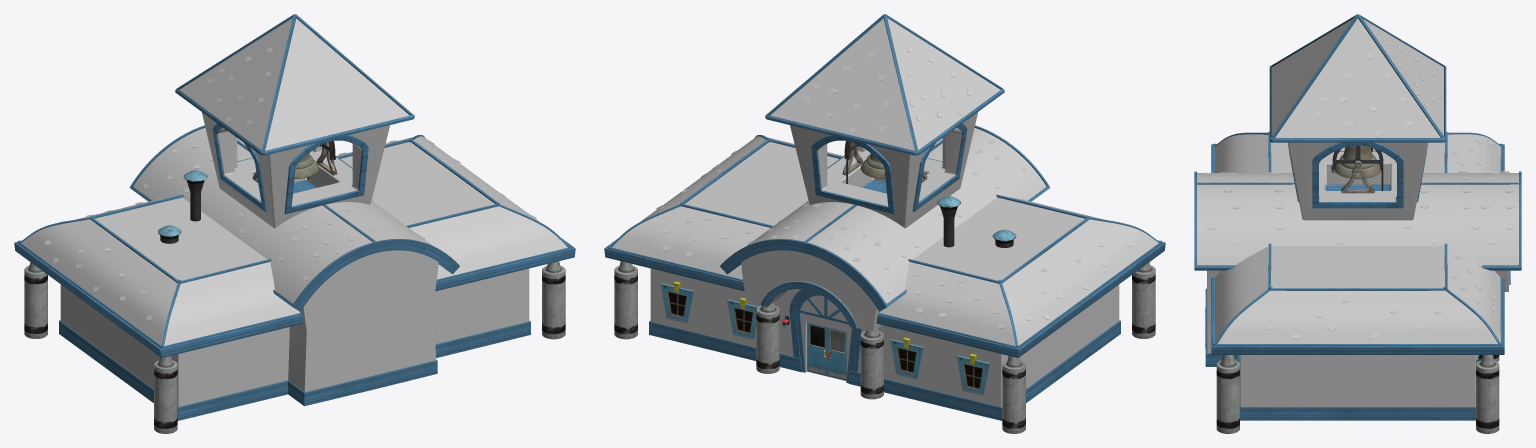
The picture shows the model from 3 angles, left to right: view 1: azimuth 30°, elevation 25°; view 2: azimuth 150°, elevation 25°; view 3: azimuth 270°, elevation 25°; orthographic projection.
Visible parts, largest first — view 1: Main, Decor; view 2: Main, Decor, FrontDoor; view 3: Main, Decor.
Boxes of the visible parts, left/top/right/bottom form: Main: left=14, top=14, right=575, bottom=433; Decor: left=157, top=141, right=337, bottom=243; Main: left=604, top=14, right=1165, bottom=433; Decor: left=781, top=141, right=1016, bottom=326; FrontDoor: left=807, top=322, right=846, bottom=380; Main: left=1194, top=14, right=1521, bottom=433; Decor: left=1331, top=145, right=1383, bottom=193.
Size of the model in its own units: 20.35 by 15 by 13.88.
